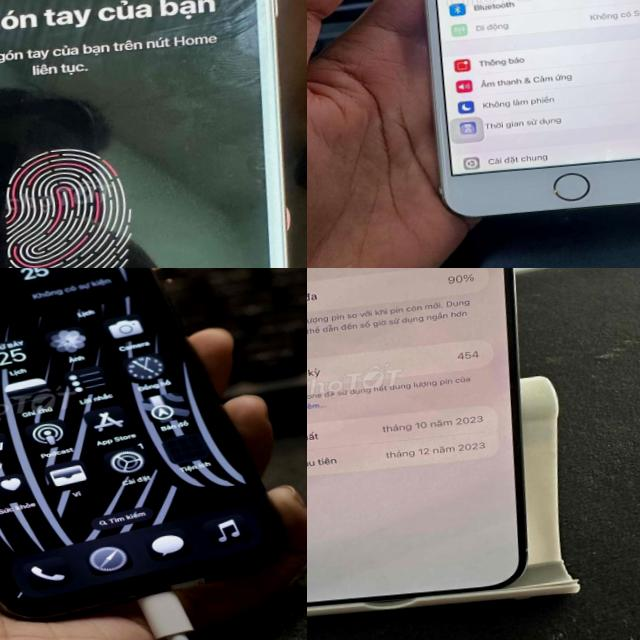gen_11: (0, 268, 282, 619)
gen_15: (307, 268, 563, 637)
gen_7_8: (0, 0, 307, 268), (405, 0, 640, 218)
